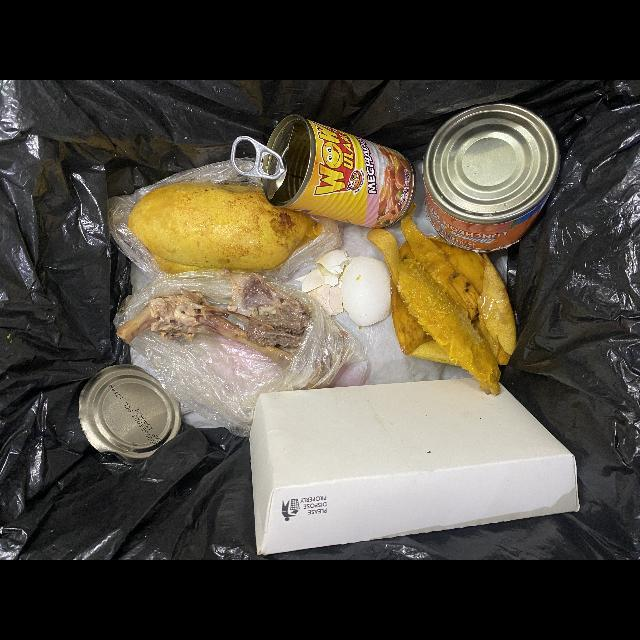biowaste: (366, 209, 517, 396), (116, 273, 312, 382), (127, 183, 323, 276), (296, 250, 392, 327)
metal: (232, 114, 416, 229), (421, 103, 561, 253), (79, 366, 184, 462)
paper: (249, 378, 582, 557)
plastic: (113, 270, 367, 439), (106, 139, 343, 283)
